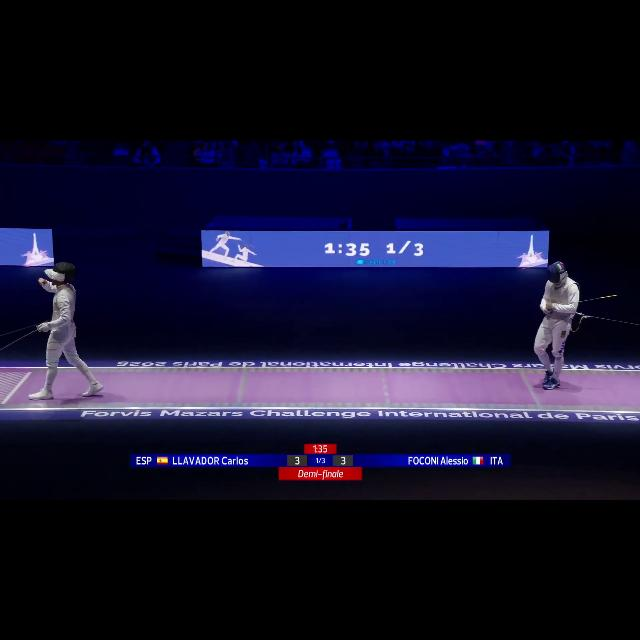blade: (544, 292, 620, 312), (2, 324, 48, 354)
